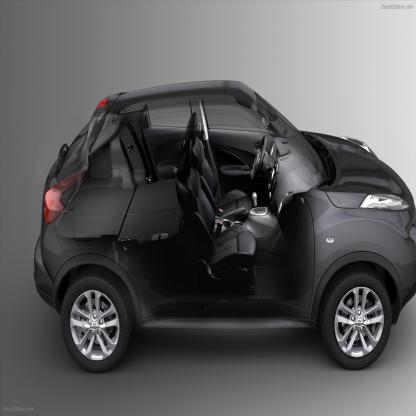Vehicle: (34, 78, 414, 374)
